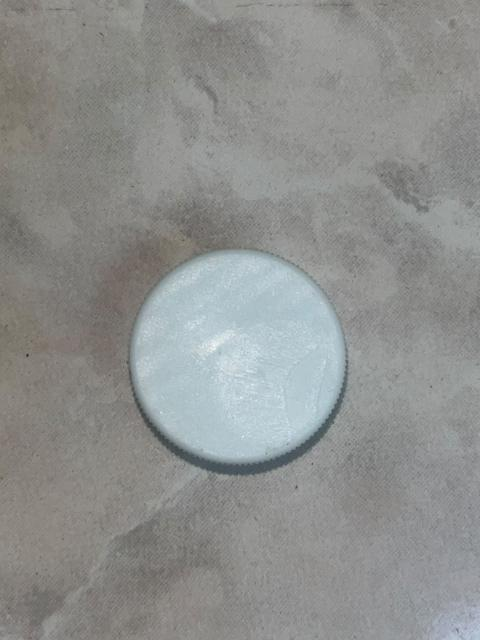HDPE: (126, 252, 366, 470)
